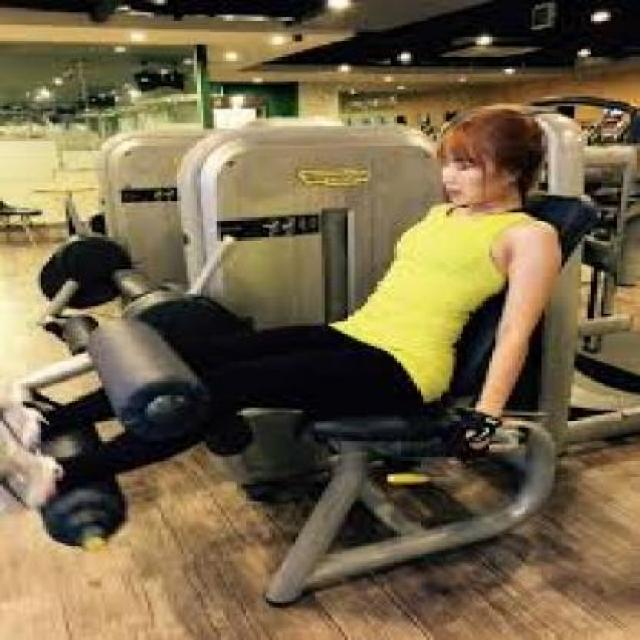leg extension: (3, 90, 640, 608)
